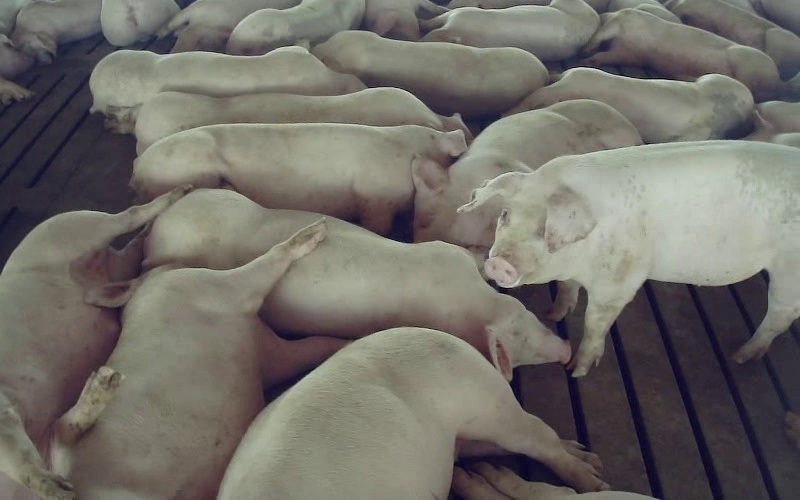pig: (143, 189, 570, 377), (459, 141, 799, 376), (69, 219, 345, 499), (218, 327, 607, 499), (0, 189, 184, 499), (131, 125, 465, 234), (413, 100, 641, 251), (106, 87, 467, 154), (312, 31, 548, 117), (583, 8, 781, 100), (89, 46, 364, 112), (510, 68, 753, 142), (420, 0, 599, 61)
